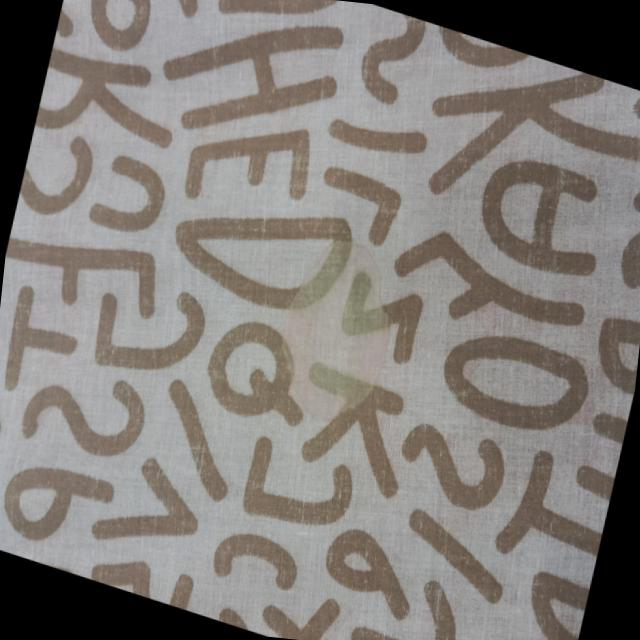stain: (254, 212, 418, 451)
